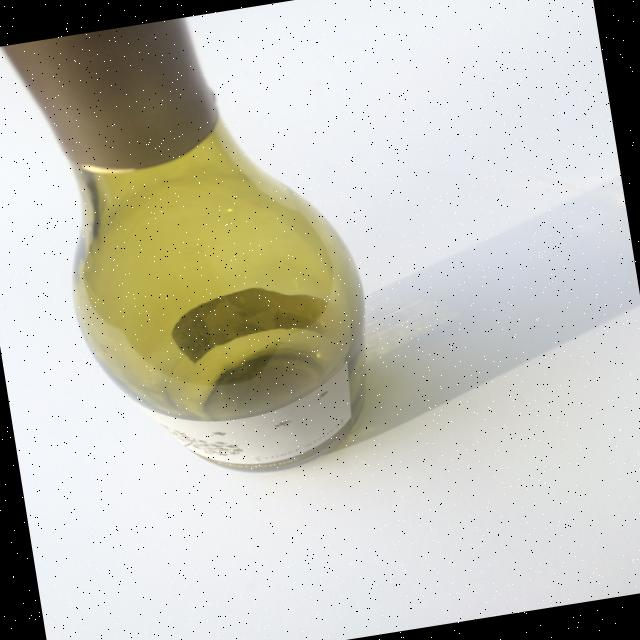glass: (0, 0, 390, 503)
